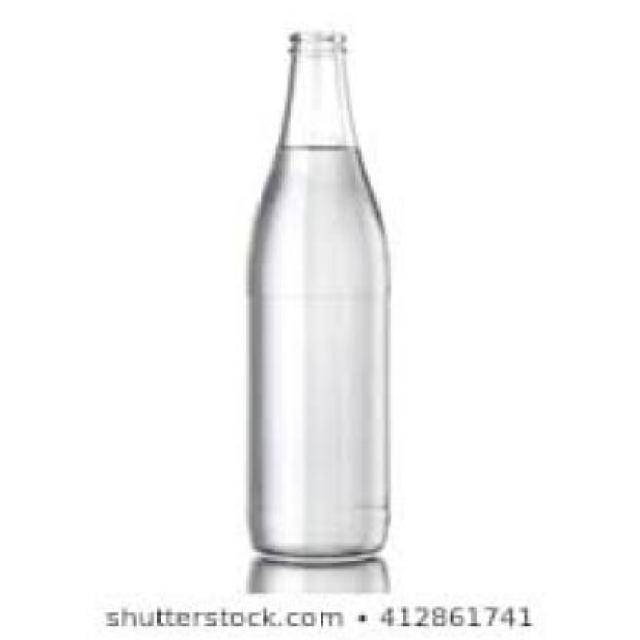kaca: (249, 31, 385, 558)
